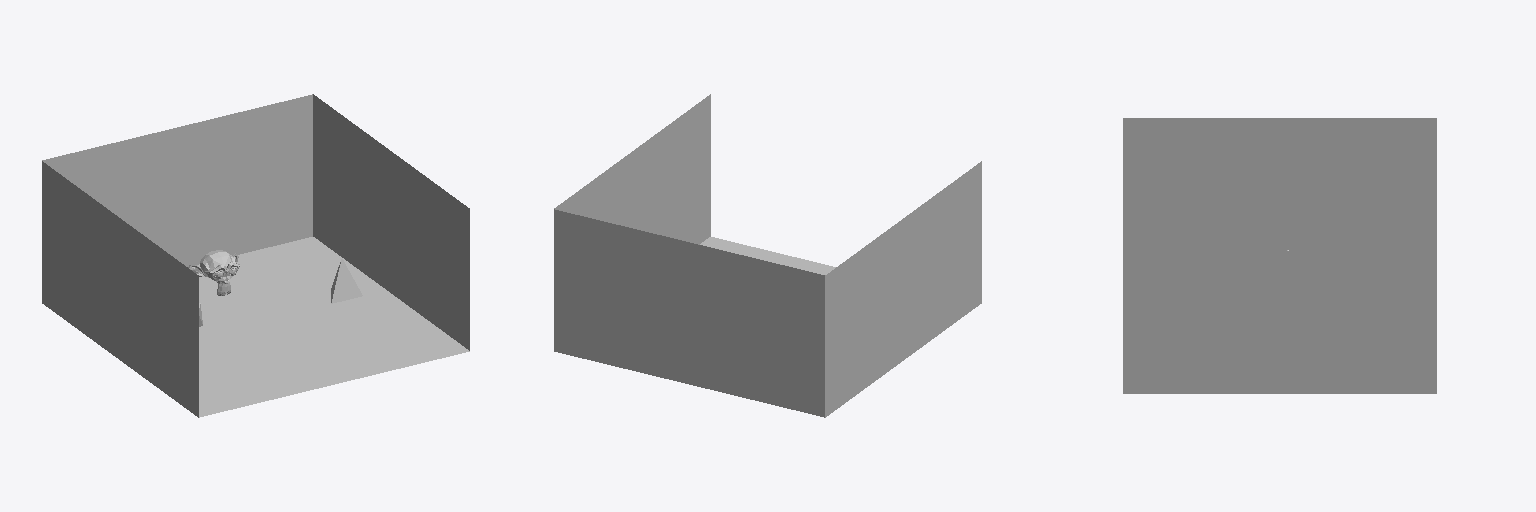
File: test room.obj
3 renders of one model, left to right at view 1: azimuth 30°, elevation 25°; view 2: azimuth 150°, elevation 25°; view 3: azimuth 270°, elevation 25°, orthographic.
Visible parts, largest first — view 1: Plane, Suzanne, Cone_Cone.001; view 2: Plane; view 3: Plane.
Part boxes in pixels (bbox=[...]): Plane: bbox=[42, 94, 469, 417]; Suzanne: bbox=[188, 250, 239, 295]; Cone_Cone.001: bbox=[331, 259, 362, 303]; Plane: bbox=[554, 94, 981, 417]; Plane: bbox=[1123, 118, 1436, 393].
Bounding box in the file's own units: 10 × 5 × 10.